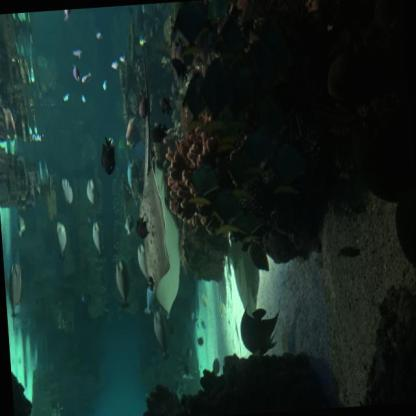fish: (265, 133, 311, 197), (236, 301, 285, 360), (196, 54, 236, 123), (169, 0, 214, 58), (238, 125, 280, 178), (207, 183, 247, 238), (225, 56, 257, 124), (224, 146, 259, 200), (256, 91, 288, 144), (185, 160, 221, 206), (329, 129, 357, 184), (178, 70, 206, 124), (4, 262, 26, 320), (231, 205, 264, 242), (149, 307, 171, 359), (112, 258, 132, 308), (248, 238, 272, 274), (99, 137, 118, 176), (122, 113, 140, 148), (125, 158, 140, 198), (136, 242, 151, 281), (170, 54, 190, 83), (90, 218, 105, 256), (55, 221, 70, 259), (60, 175, 75, 208), (143, 280, 157, 314), (150, 122, 170, 145), (134, 214, 150, 240), (85, 176, 98, 207), (337, 243, 360, 260), (136, 88, 149, 116), (122, 212, 135, 238), (17, 212, 28, 240), (158, 95, 172, 114), (181, 362, 194, 382), (199, 286, 209, 308), (210, 358, 221, 378), (218, 301, 228, 320), (80, 71, 93, 84), (71, 47, 84, 60), (72, 63, 80, 82), (184, 345, 193, 361), (64, 9, 74, 21), (62, 92, 72, 104), (200, 317, 207, 332), (101, 79, 108, 92), (110, 60, 119, 70), (194, 306, 199, 322), (95, 31, 103, 41), (81, 92, 87, 104), (190, 309, 196, 321), (119, 55, 125, 64), (409, 318, 409, 318)
stingray: (132, 157, 170, 294)
